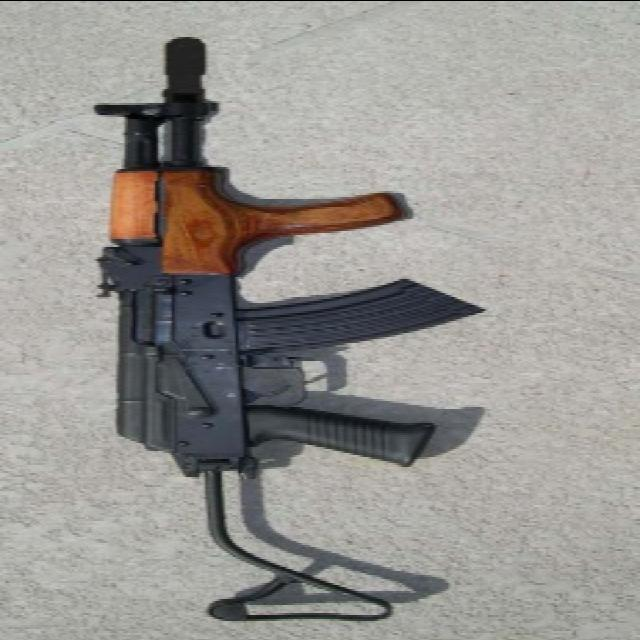rifle: (92, 25, 462, 627)
